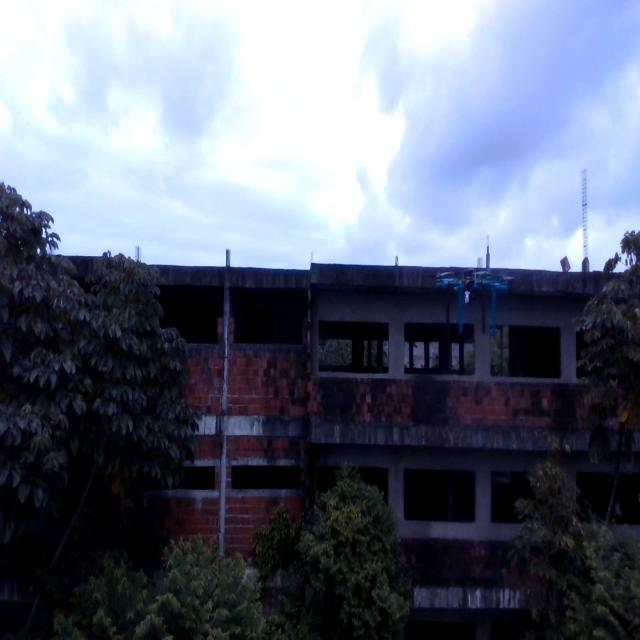-uav-: (422, 252, 516, 335)
